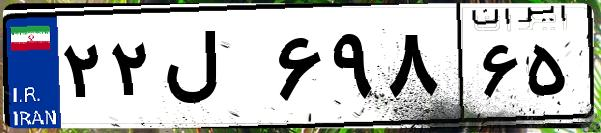2: (57, 26, 110, 100), (110, 28, 158, 98)
5: (525, 38, 570, 115)
6: (270, 28, 330, 110), (475, 38, 525, 113)
8: (385, 28, 445, 110)
9: (330, 28, 385, 110)
ل: (158, 20, 270, 120)
